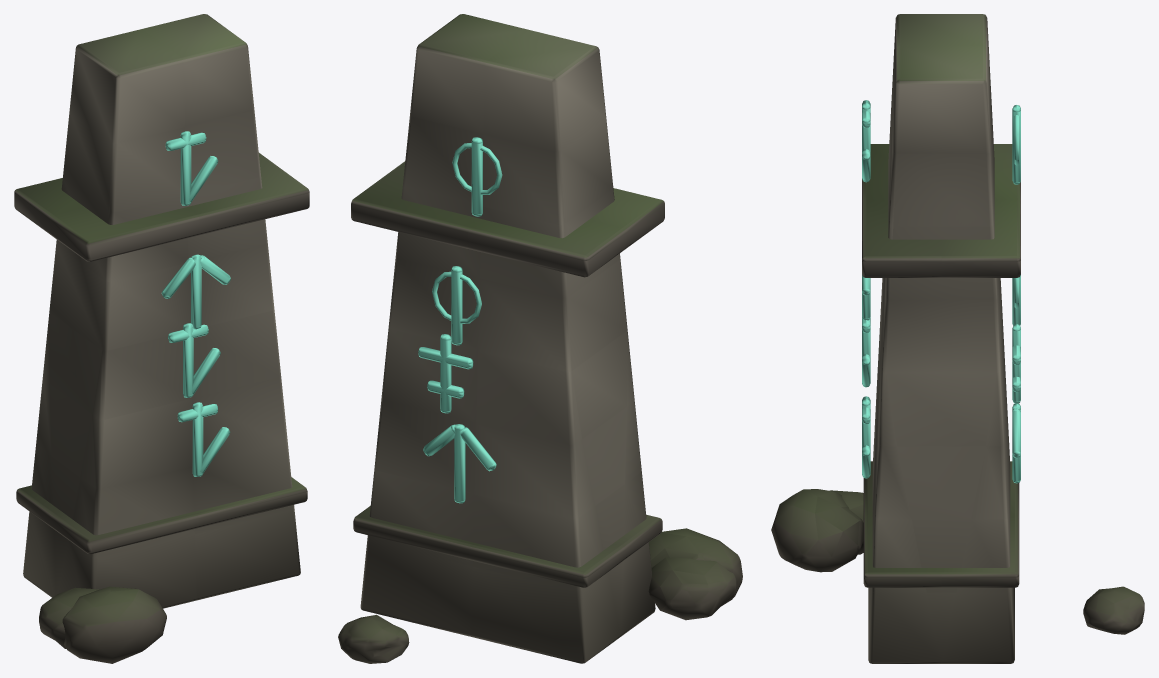
Rendered from monolith.glb.
The picture shows the model from 3 angles, left to right: view 1: azimuth 30°, elevation 25°; view 2: azimuth 150°, elevation 25°; view 3: azimuth 270°, elevation 25°; orthographic projection. The views are drawn at different scales.
Visible parts, largest first — view 1: monolith; view 2: monolith; view 3: monolith.
Boxes of the visible parts, x1,y1,x2,y2 form: monolith: [14, 14, 309, 663]; monolith: [338, 14, 742, 663]; monolith: [771, 14, 1144, 663].
Size of the model in its own units: 1.94 by 3.67 by 2.16.
